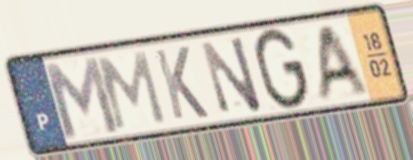A: (315, 21, 371, 105)
G: (252, 26, 312, 113)
K: (151, 44, 212, 122)
M: (38, 53, 123, 142), (94, 48, 169, 132)
N: (197, 32, 266, 116)
